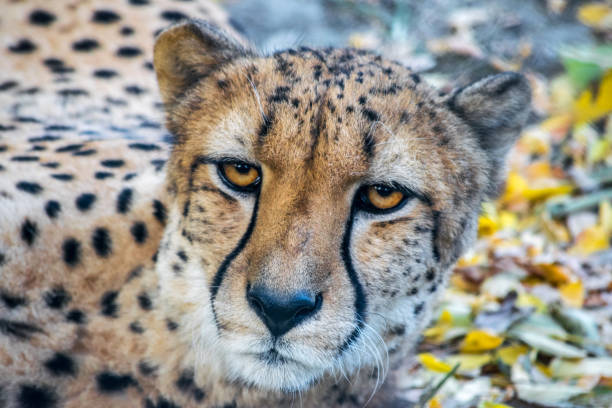cheetah: (121, 8, 537, 408)
